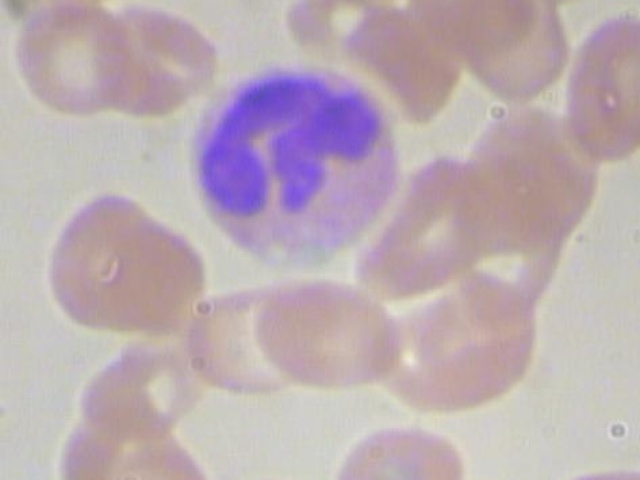RBC: (34, 182, 167, 334), (252, 274, 405, 391), (0, 0, 139, 121), (93, 0, 232, 118), (560, 11, 640, 163)
WBC: (187, 59, 402, 276)
